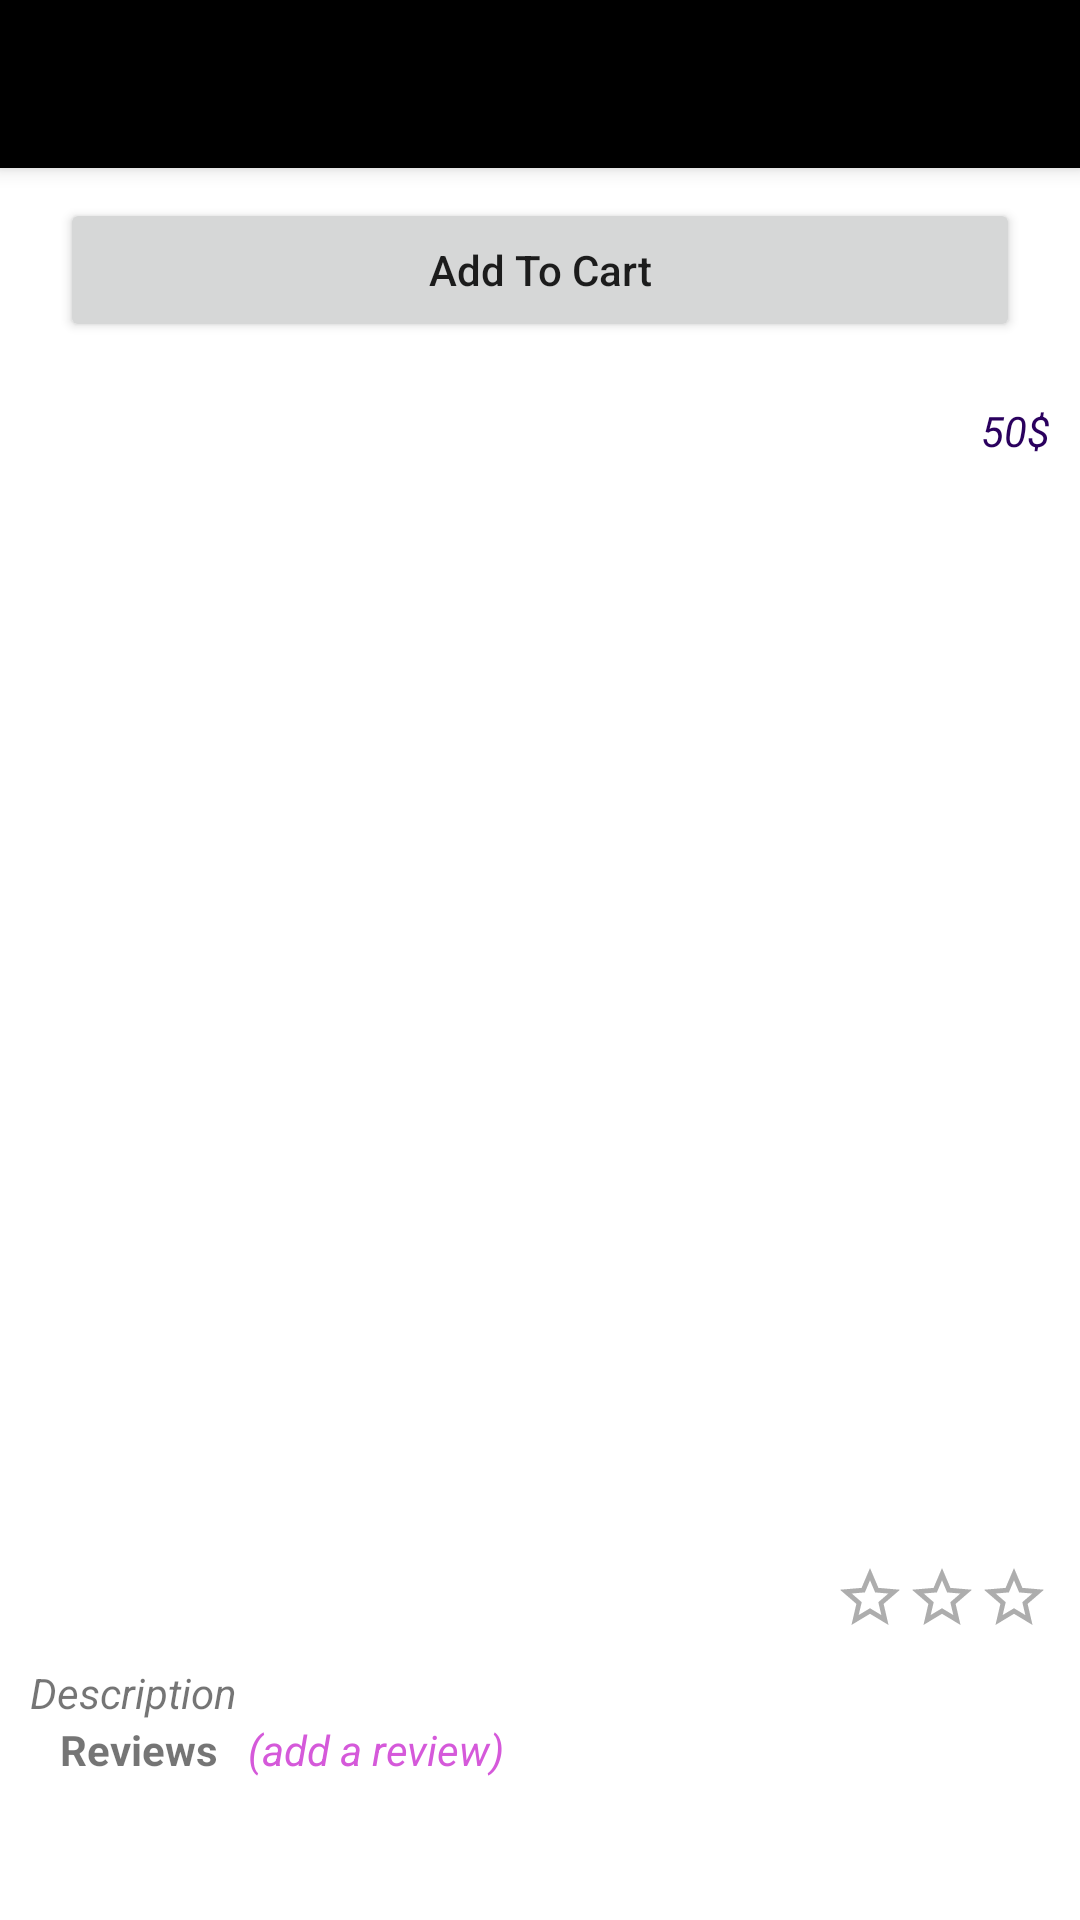

Where icons sit on this 1080px x 1920px app screen, as (x1, y1, x2, y2):
emptystar: (841, 1569, 899, 1625), (913, 1569, 971, 1625), (985, 1569, 1043, 1625)
